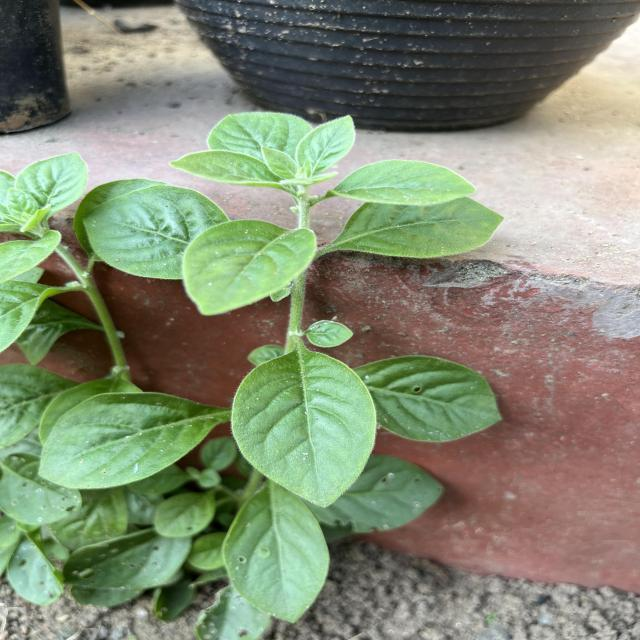Aerva lanata: (227, 344, 383, 512), (78, 182, 233, 282), (327, 194, 507, 260), (322, 157, 479, 209)
